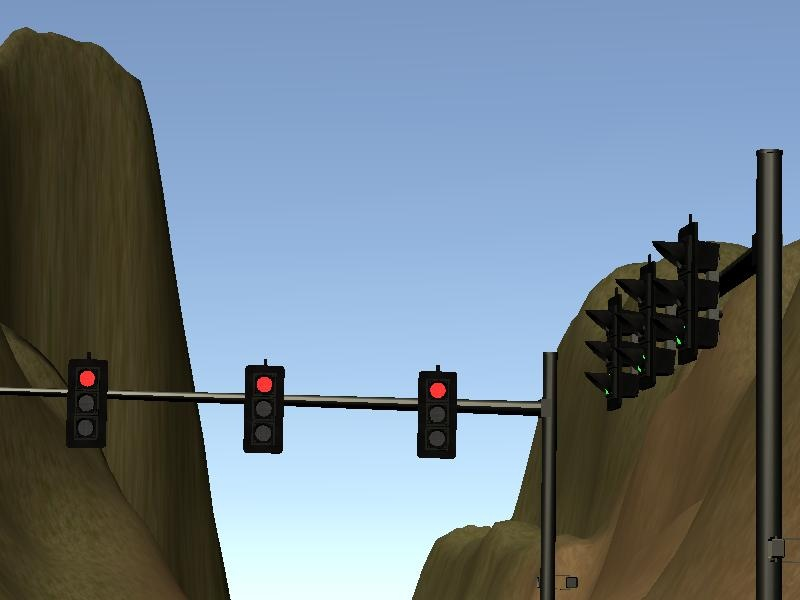red: (412, 364, 465, 465), (239, 359, 290, 457), (63, 354, 110, 450)
